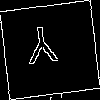Y: (24, 24, 60, 75)
